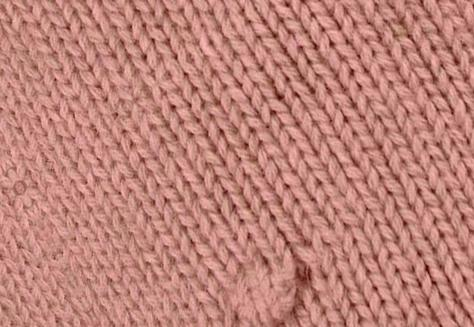knot: (208, 244, 313, 326)
